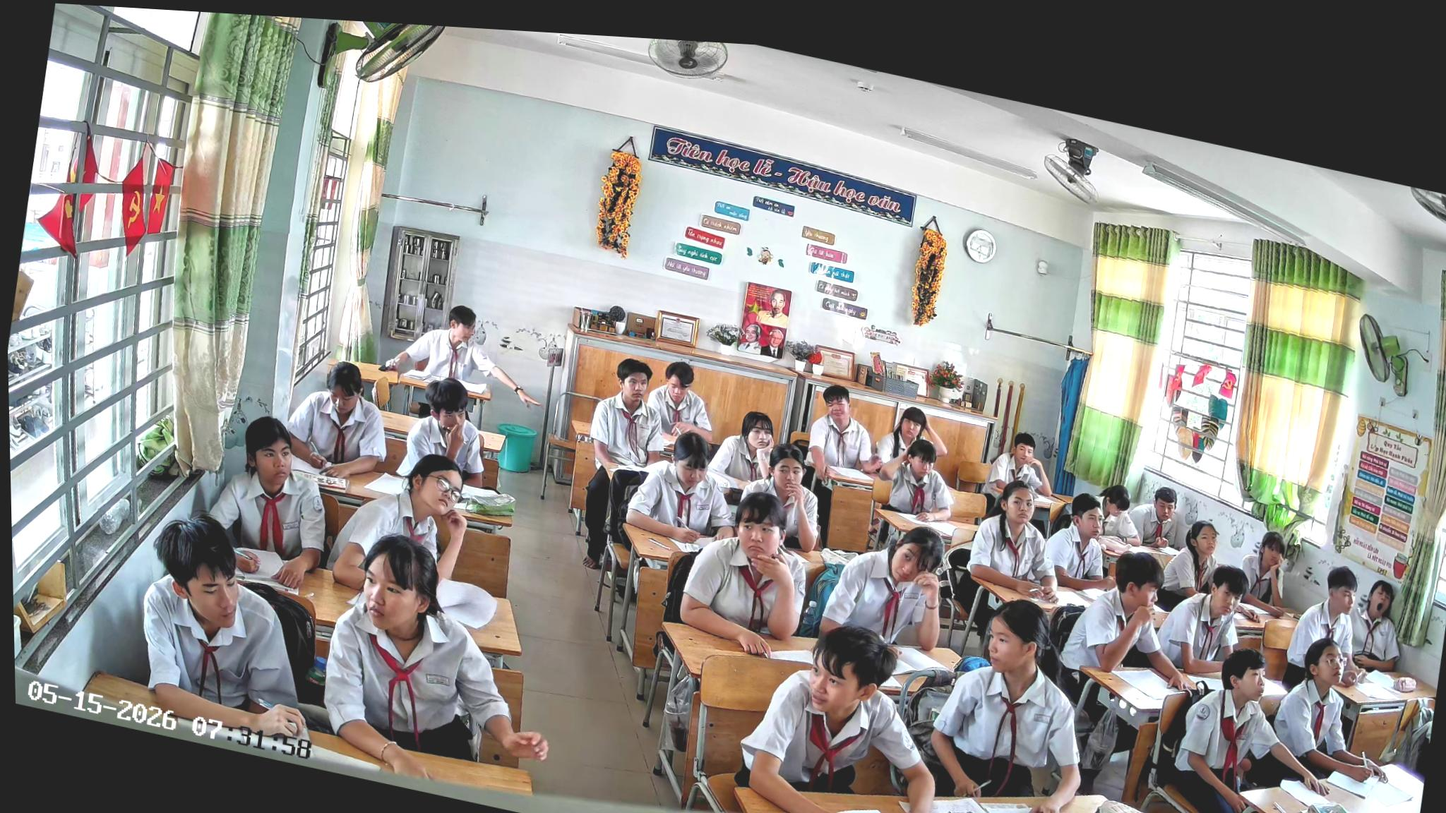person: (306, 520, 582, 809), (122, 503, 341, 752), (727, 603, 964, 813), (914, 581, 1108, 813), (1157, 631, 1349, 813), (1049, 536, 1214, 729), (194, 403, 345, 597), (670, 476, 823, 666), (324, 434, 479, 613), (375, 289, 556, 442), (567, 350, 680, 583), (1262, 628, 1408, 794), (810, 504, 957, 666), (274, 348, 402, 492), (621, 418, 753, 557), (1151, 551, 1272, 692), (961, 471, 1078, 604), (795, 378, 894, 524), (1278, 555, 1375, 702), (392, 368, 500, 497), (737, 434, 835, 559), (1153, 512, 1247, 624), (1036, 485, 1128, 599), (871, 430, 965, 529), (868, 399, 957, 496), (638, 353, 724, 449), (701, 401, 781, 498), (980, 424, 1062, 516), (1343, 573, 1412, 677), (1231, 525, 1301, 623), (1121, 479, 1190, 556), (1088, 479, 1151, 549)
